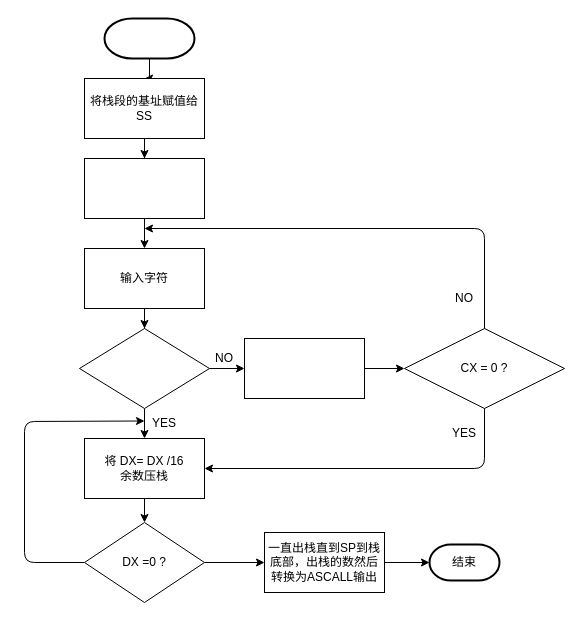
This 582x620 diagram has some shape labels left out. The centre of each missing label's shape, as x and y in pixels:
将SP指向栈底 CX = 5 BX = 0 DX = 0: pixel 144 188
开始: pixel 149 38
是否为空格？: pixel 144 368
输入转换为具体 数字放入BL中 DX = DX*10 + BL CX = CX - 1: pixel 304 368
